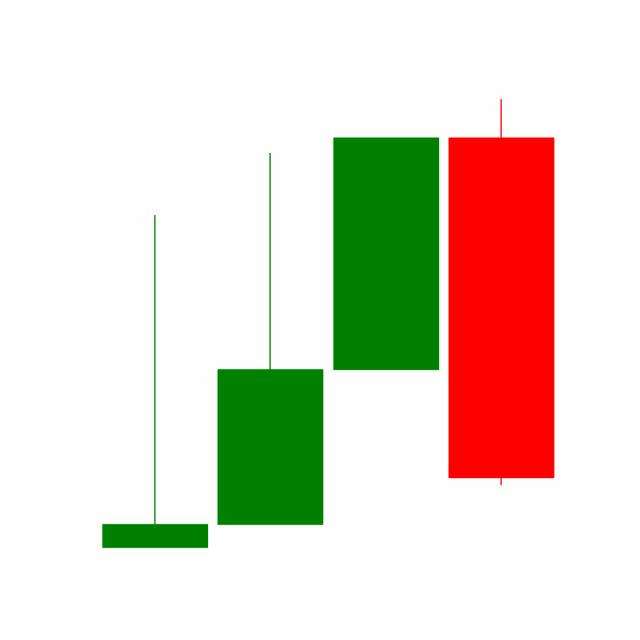Marubozu: (443, 94, 559, 489)
